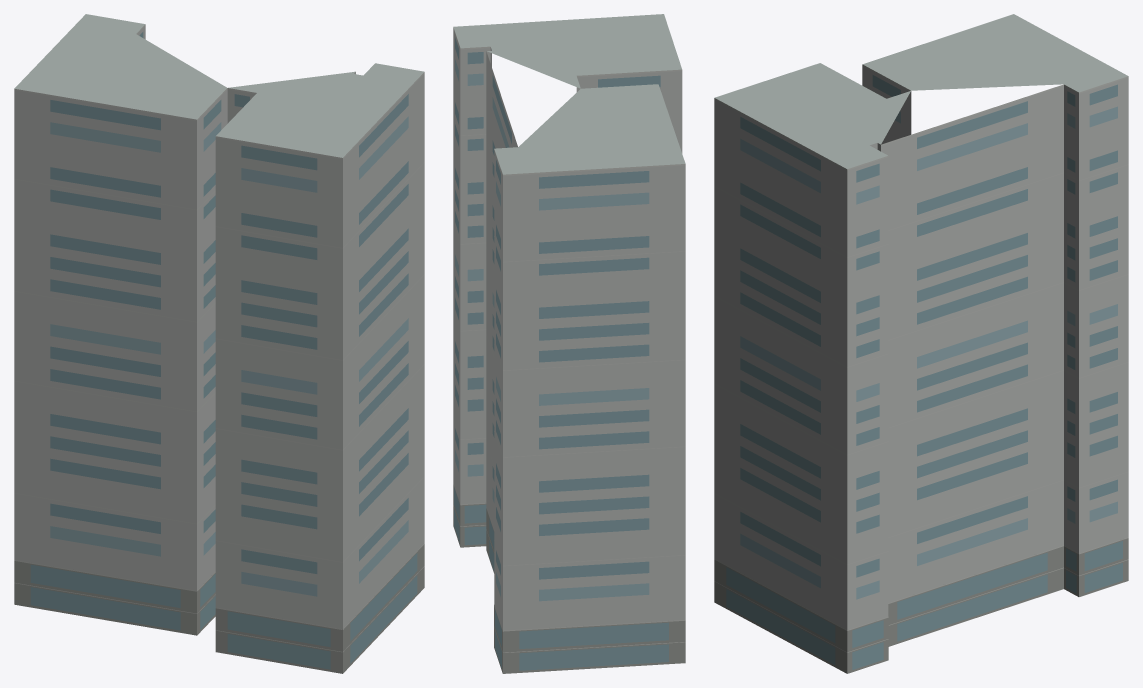
The model's file is survey-upis-32783318.glb.
The picture shows the model from 3 angles, left to right: view 1: azimuth 30°, elevation 25°; view 2: azimuth 150°, elevation 25°; view 3: azimuth 270°, elevation 25°; orthographic projection. The views are drawn at different scales.
Visible parts, largest first — view 1: survey-upis-32783318.tmp; view 2: survey-upis-32783318.tmp; view 3: survey-upis-32783318.tmp.
Boxes of the visible parts, <box> form: survey-upis-32783318.tmp: <box>14,14,424,673</box>; survey-upis-32783318.tmp: <box>453,14,685,673</box>; survey-upis-32783318.tmp: <box>714,14,1128,673</box>.
Size of the model in its own units: 53.99 by 81.8 by 60.87.
